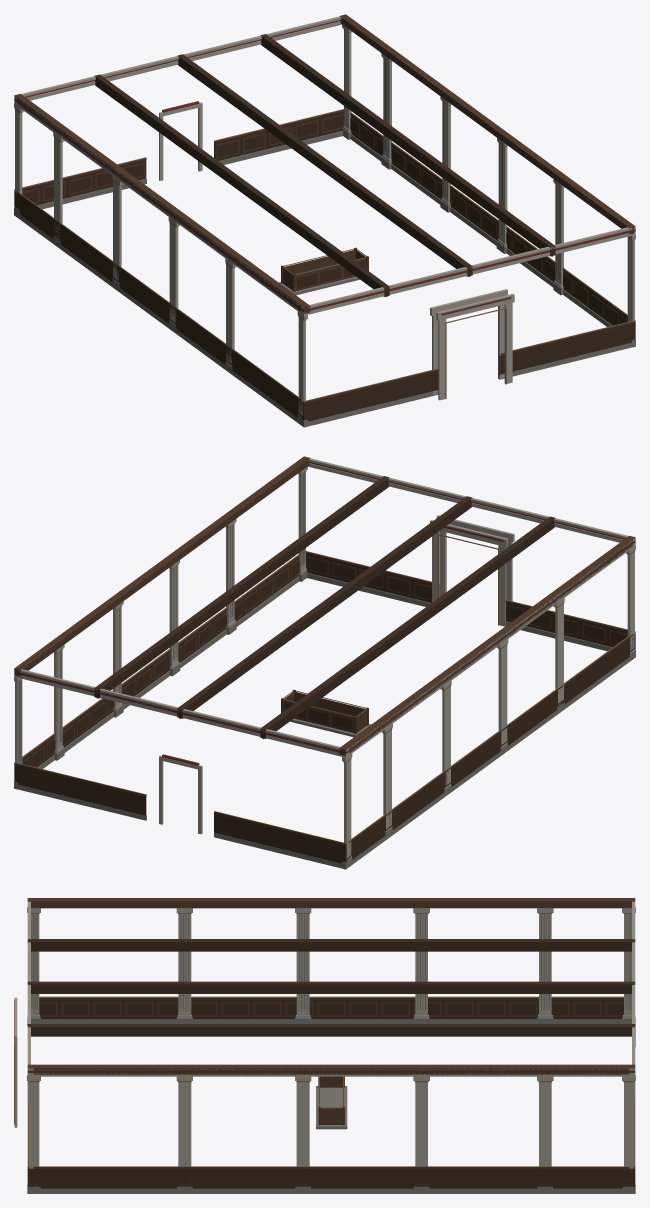
Rendered from wrap.glb.
3 views of the same model, one above another, from view 1: azimuth 30°, elevation 25°; view 2: azimuth 150°, elevation 25°; view 3: azimuth 270°, elevation 25° (orthographic). The views are drawn at different scales.
Parts seen in each view (by area): view 1: m5_wrap; view 2: m5_wrap; view 3: m5_wrap.
Part boxes in pixels (x1,y1,x2,y2): m5_wrap: (14, 14, 635, 427); m5_wrap: (14, 456, 635, 869); m5_wrap: (14, 898, 635, 1193).
Bounding box in the file's own units: 15.6 × 5.4 × 24.15.
